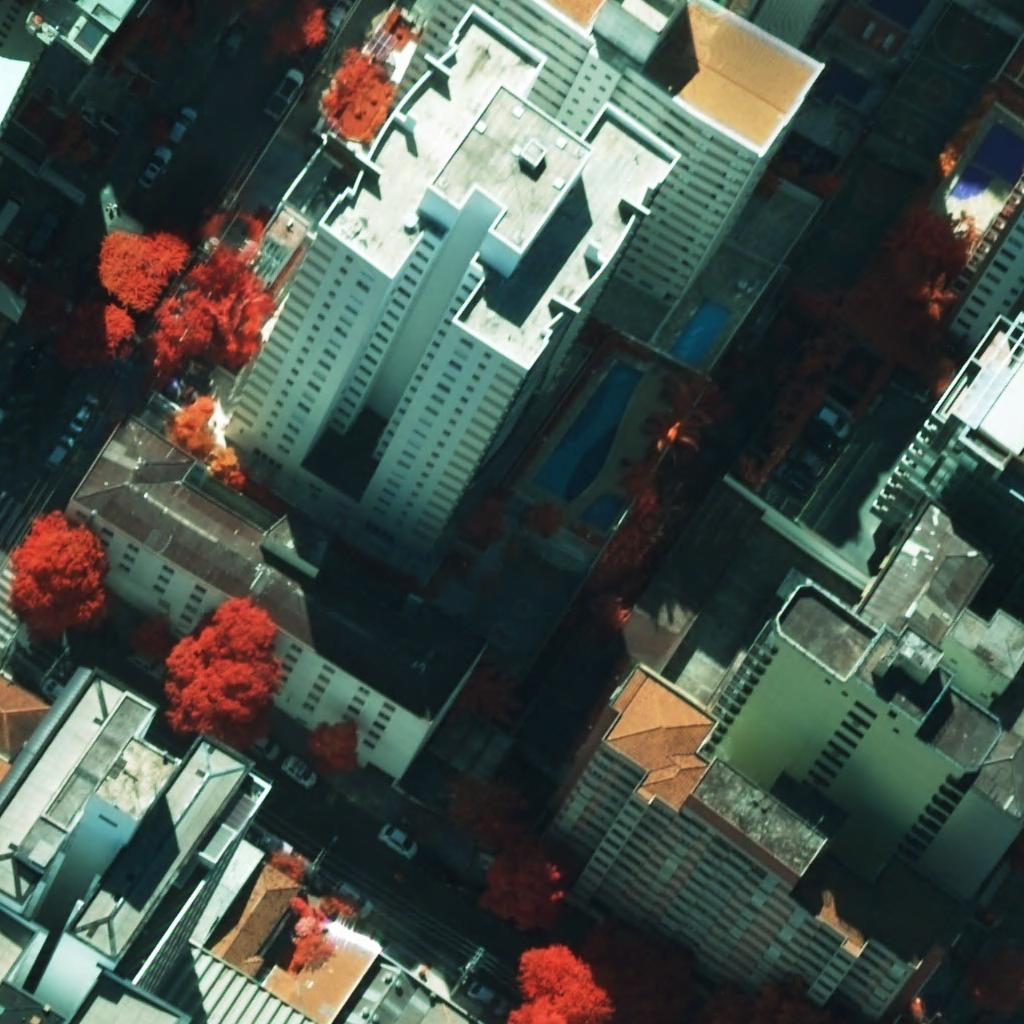pool: (534, 360, 644, 502), (950, 121, 1024, 200), (670, 300, 731, 368), (870, 0, 930, 30), (581, 494, 625, 533)
